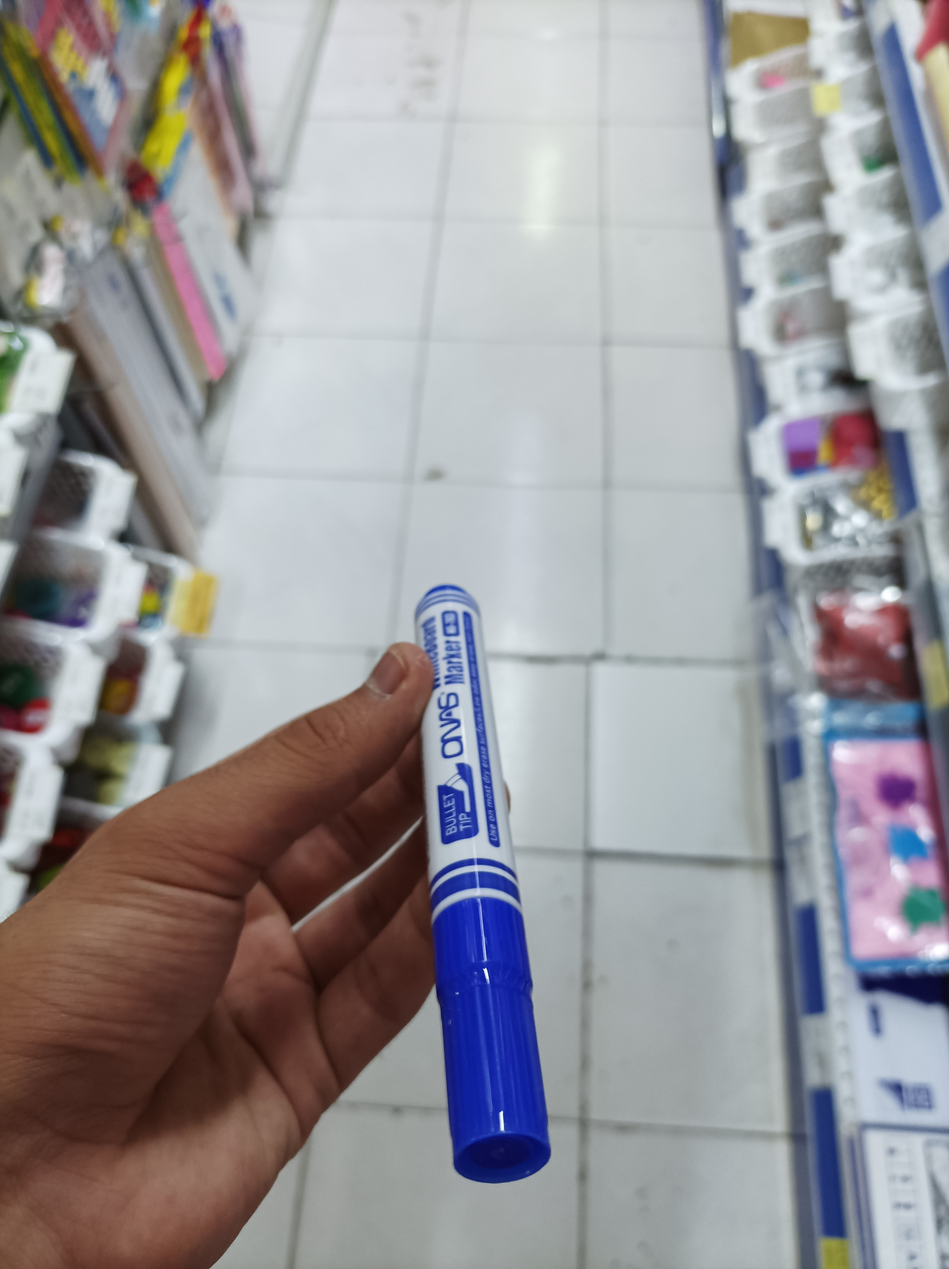plastic: (413, 571, 556, 1187)
